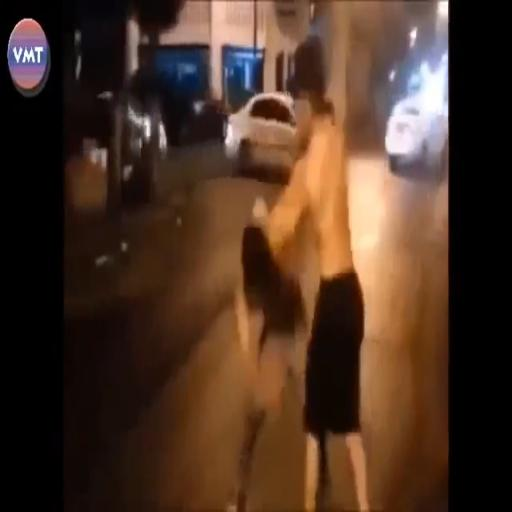violencia: (233, 26, 373, 508)
